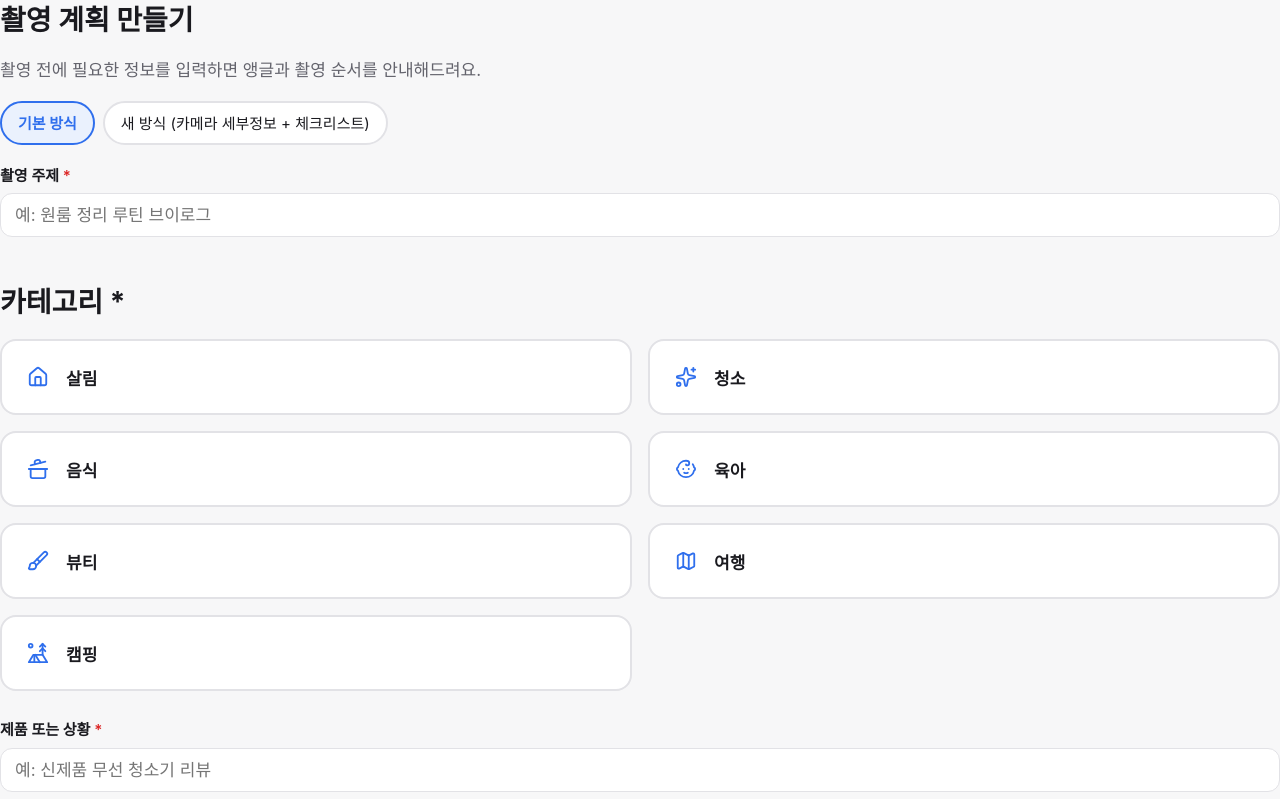
ShootingGuideScreen - 새 방식(v2) › 체크리스트 항목을 체크하면 진행률이 올라간다
This screenshot has width=1280, height=799.
Click the button "새 방식 (카메라 세부정보 + 체크리스트)". click: point(245, 122)
box: [103,100,388,144]
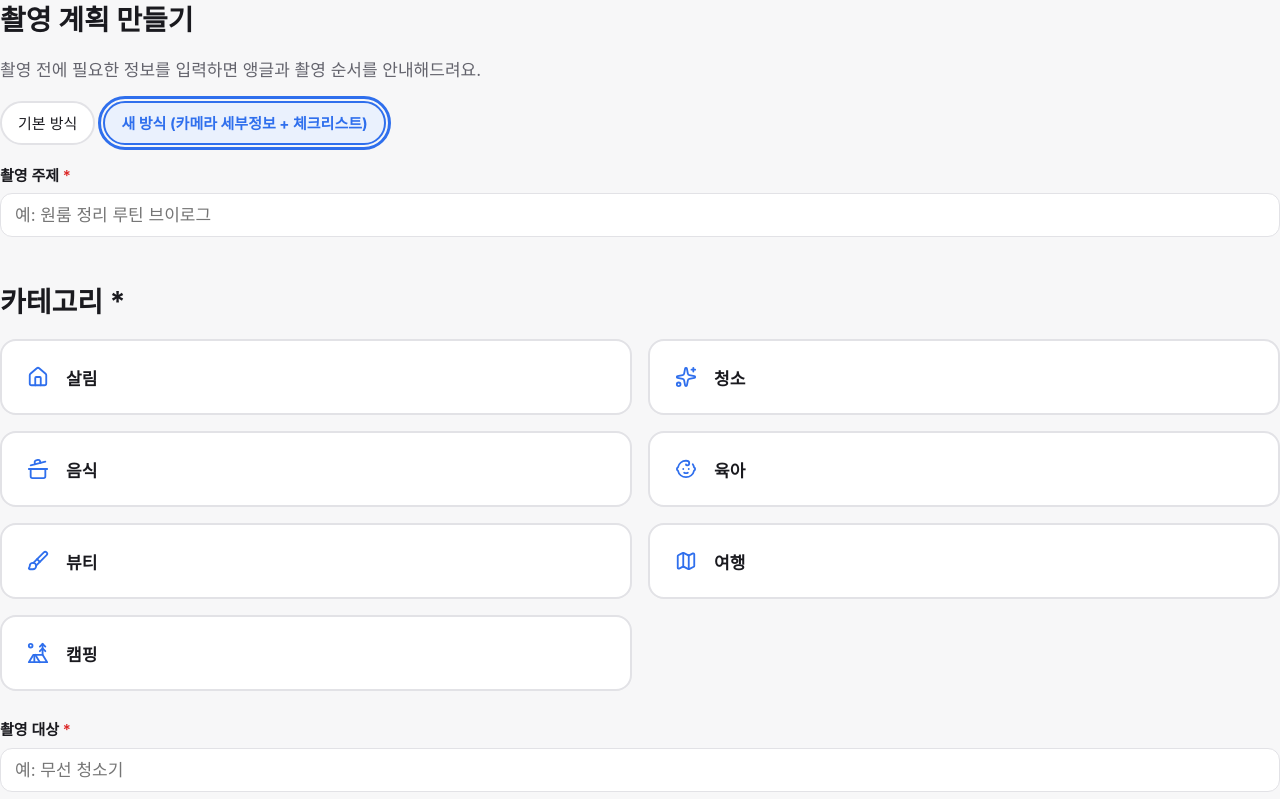
Type "캠핑 요리" into the field labelled "촬영 주제 *". click: point(640, 215)
box: [0,193,1279,237]
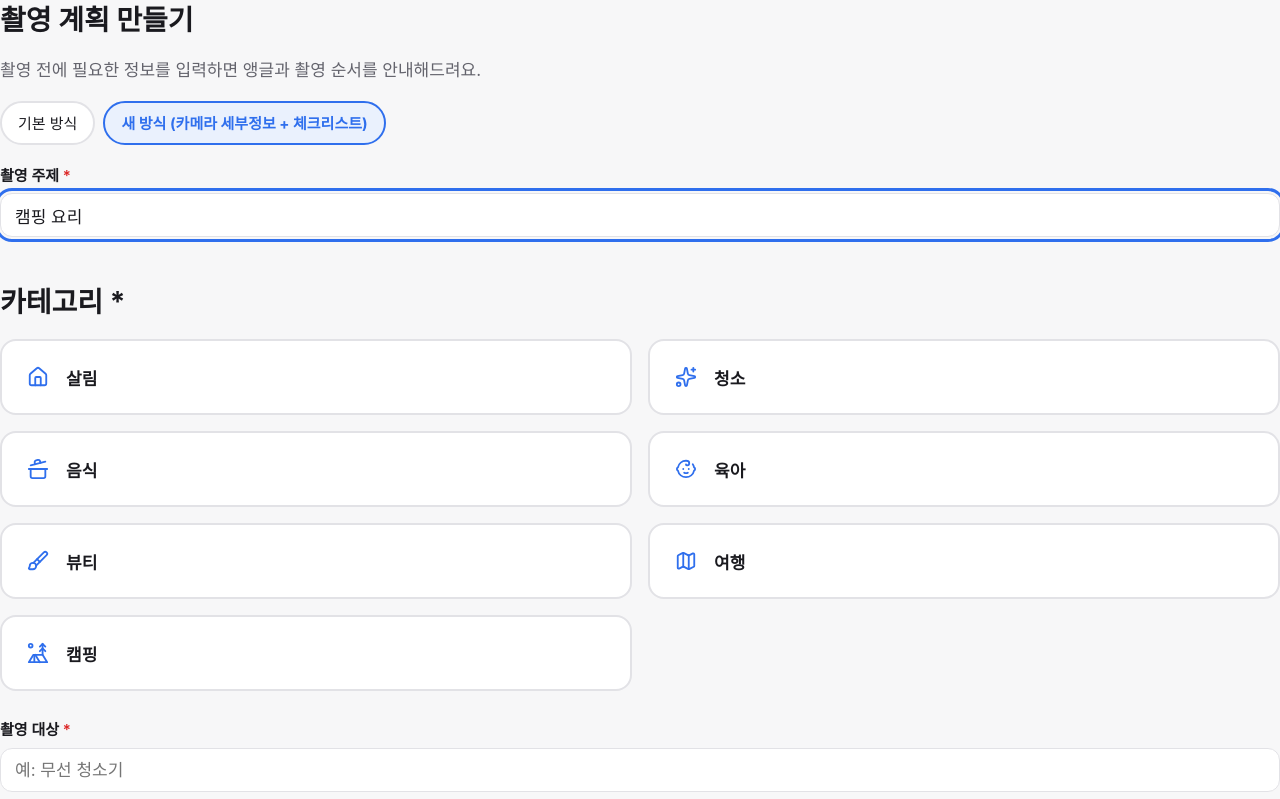
Click the button "캠핑". click: point(82, 654)
box: [0,615,632,691]
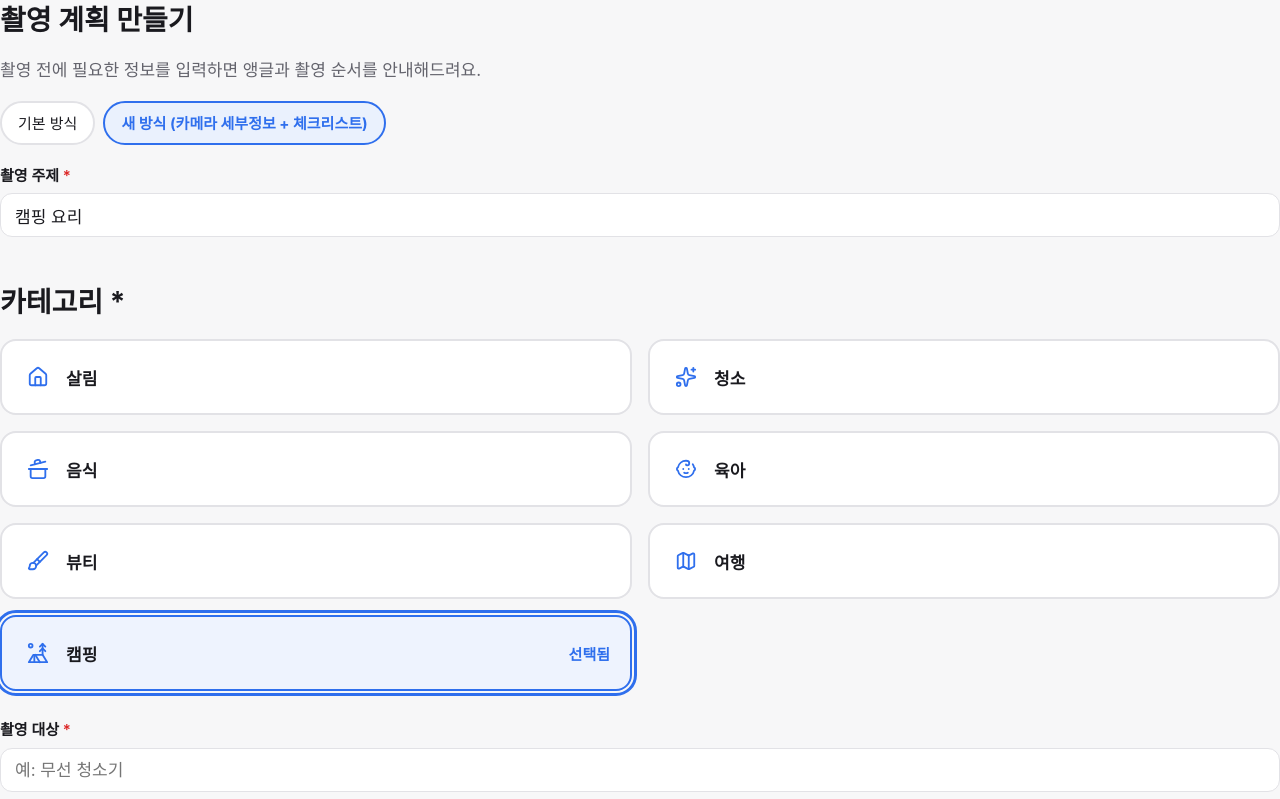
Type "더치오븐 요리" into the field labelled "촬영 대상 *". click: point(640, 770)
box: [0,748,1279,792]
(page scrolled)
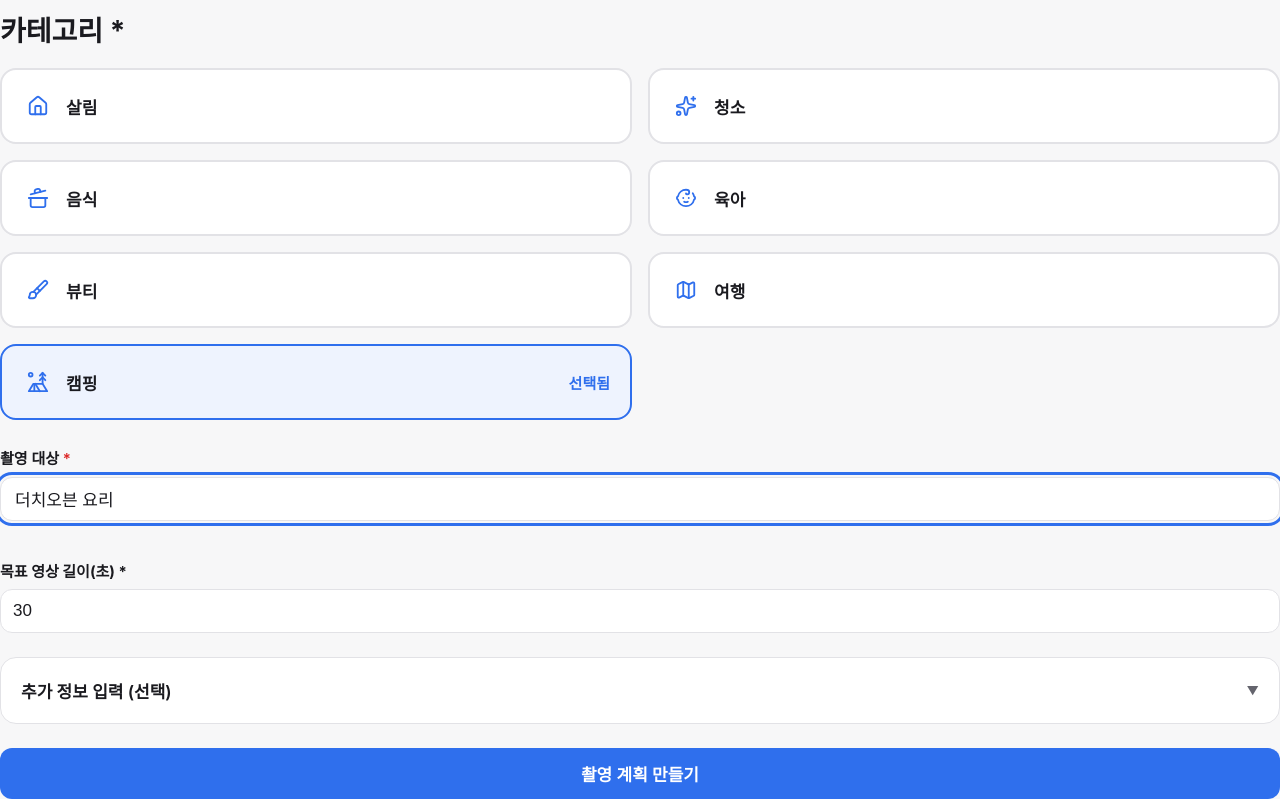
Click the button "촬영 계획 만들기". click: point(640, 774)
box: [0,748,1279,798]
(page scrolled)
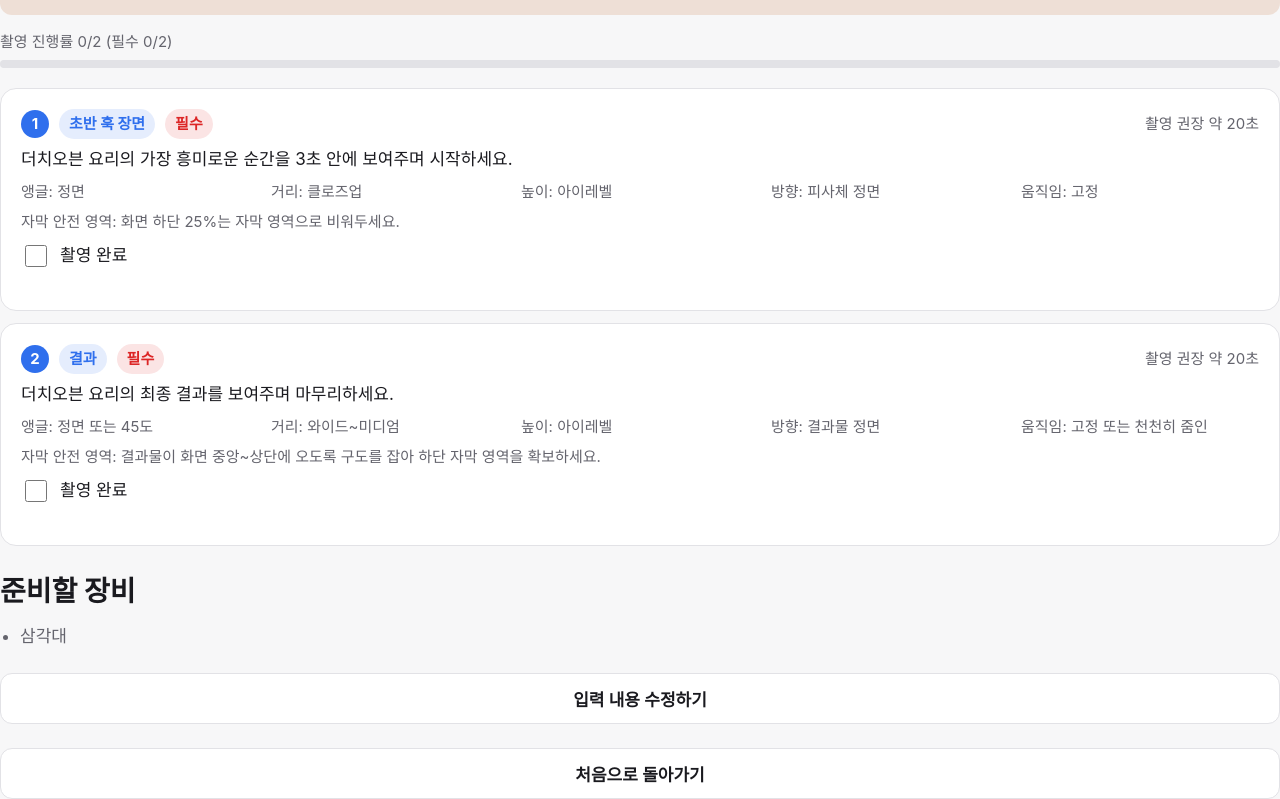
expect the text "촬영 진행률 0/2 (필수 0/2)" is shown: met, box [0,32,172,51]
Click the checkbox labelled "촬영 완료" below "초반 훅 장면". click: point(36, 256)
box: [25,244,47,266]
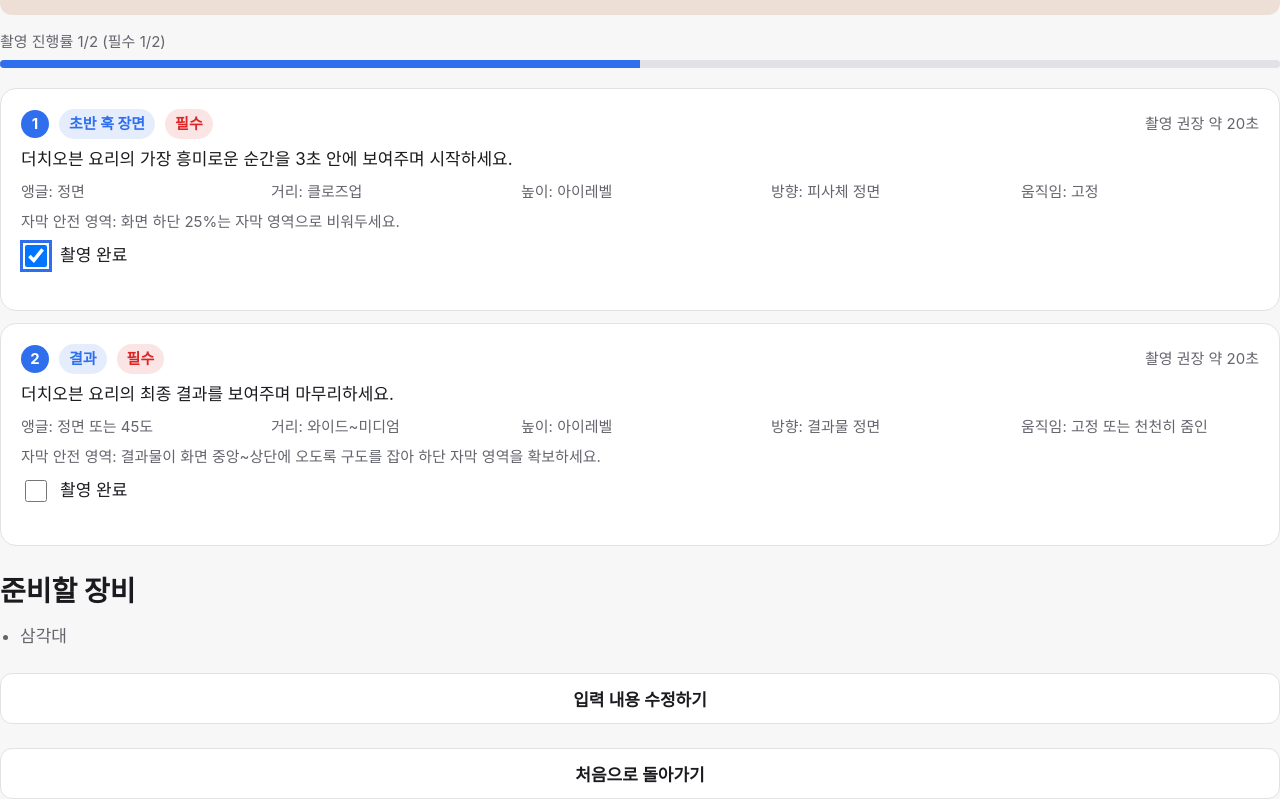
expect the text "촬영 진행률 1/2 (필수 1/2)" is shown: met, box [0,32,166,51]
